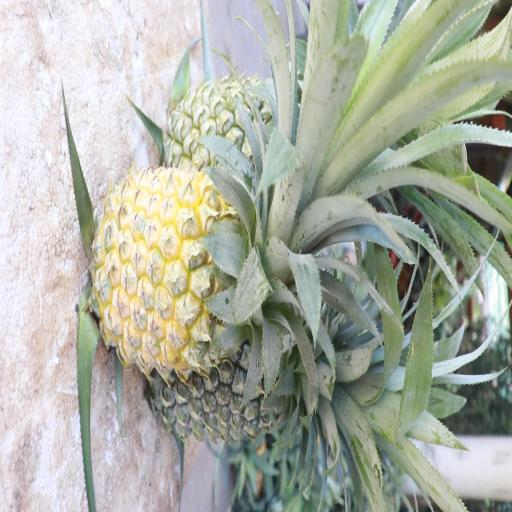------------------------------: (163, 60, 310, 188)
Pineapple - v8 v1: (94, 173, 286, 371)
